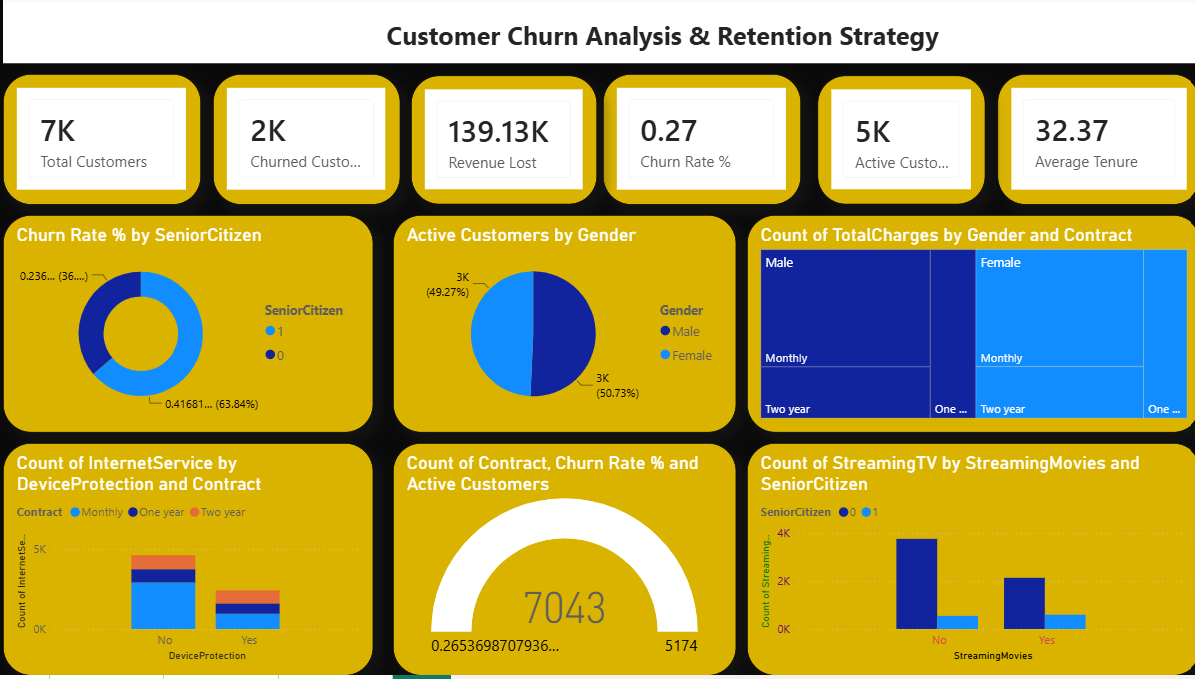

What the dashboard file says about the page in this screenshot:
{"tool":"powerbi","page":{"name":"Page 1","canvas":[1280,720],"ordinal":0},"visuals":[{"type":"textbox","box":[9.7,0,1271.1,71.2],"z":0},{"type":"cardVisual","fields":{"Data":["churn_analysis telecom_churn.Total Customers"]},"box":[9.5,82.7,210,138.4],"z":1},{"type":"cardVisual","fields":{"Data":["churn_analysis telecom_churn.Churned Customers"]},"box":[232.2,82.7,198.8,138.4],"z":2},{"type":"cardVisual","fields":{"Data":["churn_analysis telecom_churn.Churn Rate %"]},"box":[645.8,82.7,210,138.4],"z":3},{"type":"cardVisual","fields":{"Data":["churn_analysis telecom_churn.Revenue Lost"]},"box":[442.2,84.3,197.2,136.8],"z":4},{"type":"cardVisual","fields":{"Data":["churn_analysis telecom_churn.Average Tenure"]},"box":[1064.1,82.7,216.3,138.4],"z":5},{"type":"cardVisual","fields":{"Data":["churn_analysis telecom_churn.Active Customers"]},"box":[873.2,84.3,178.1,136.8],"z":6},{"type":"donutChart","fields":{"Category":["churn_analysis telecom_churn.SeniorCitizen"],"Y":["churn_analysis telecom_churn.Churn Rate %"]},"box":[9.5,232.2,392.9,230.6],"z":7},{"type":"pieChart","fields":{"Y":["churn_analysis telecom_churn.Active Customers"],"Category":["churn_analysis telecom_churn.Gender"]},"box":[423.1,232.2,364.2,230.6],"z":8},{"type":"treemap","fields":{"Details":["churn_analysis telecom_churn.Contract"],"Group":["churn_analysis telecom_churn.Gender","churn_analysis telecom_churn.Churn"],"Values":["CountNonNull(churn_analysis telecom_churn.TotalCharges)"]},"box":[798.5,232.2,482,230.6],"z":9},{"type":"columnChart","fields":{"Category":["churn_analysis telecom_churn.DeviceProtection"],"Y":["CountNonNull(churn_analysis telecom_churn.InternetService)"],"Series":["churn_analysis telecom_churn.Contract"]},"box":[9.5,474,392.9,246.5],"z":10},{"type":"gauge","fields":{"Y":["CountNonNull(churn_analysis telecom_churn.Contract)"],"MinValue":["churn_analysis telecom_churn.Churn Rate %"],"MaxValue":["churn_analysis telecom_churn.Active Customers"]},"box":[423.1,474,364.2,246.5],"z":11},{"type":"clusteredColumnChart","fields":{"Y":["CountNonNull(churn_analysis telecom_churn.StreamingTV)"],"Category":["churn_analysis telecom_churn.StreamingMovies"],"Series":["churn_analysis telecom_churn.SeniorCitizen"]},"box":[798.5,474,482,246.5],"z":12}]}

Visuals, with their boxes in screenshot pixels (x1, y1, x2, y2), scaled from the page's 1280x720 canvas onto the 1195x679 screenshot:
textbox: pyautogui.locateOnScreen(9, 0, 1194, 67)
cardVisual - churn_analysis telecom_churn.Total Customers: pyautogui.locateOnScreen(9, 78, 205, 209)
cardVisual - churn_analysis telecom_churn.Churned Customers: pyautogui.locateOnScreen(217, 78, 402, 209)
cardVisual - churn_analysis telecom_churn.Churn Rate %: pyautogui.locateOnScreen(603, 78, 799, 209)
cardVisual - churn_analysis telecom_churn.Revenue Lost: pyautogui.locateOnScreen(413, 79, 597, 209)
cardVisual - churn_analysis telecom_churn.Average Tenure: pyautogui.locateOnScreen(993, 78, 1194, 209)
cardVisual - churn_analysis telecom_churn.Active Customers: pyautogui.locateOnScreen(815, 79, 981, 209)
donutChart - churn_analysis telecom_churn.SeniorCitizen x churn_analysis telecom_churn.Churn Rate %: pyautogui.locateOnScreen(9, 219, 376, 436)
pieChart - churn_analysis telecom_churn.Active Customers x churn_analysis telecom_churn.Gender: pyautogui.locateOnScreen(395, 219, 735, 436)
treemap - churn_analysis telecom_churn.Contract x churn_analysis telecom_churn.Gender: pyautogui.locateOnScreen(745, 219, 1194, 436)
columnChart - churn_analysis telecom_churn.DeviceProtection x CountNonNull(churn_analysis telecom_churn.InternetService): pyautogui.locateOnScreen(9, 447, 376, 678)
gauge - CountNonNull(churn_analysis telecom_churn.Contract) x churn_analysis telecom_churn.Churn Rate %: pyautogui.locateOnScreen(395, 447, 735, 678)
clusteredColumnChart - CountNonNull(churn_analysis telecom_churn.StreamingTV) x churn_analysis telecom_churn.StreamingMovies: pyautogui.locateOnScreen(745, 447, 1194, 678)
